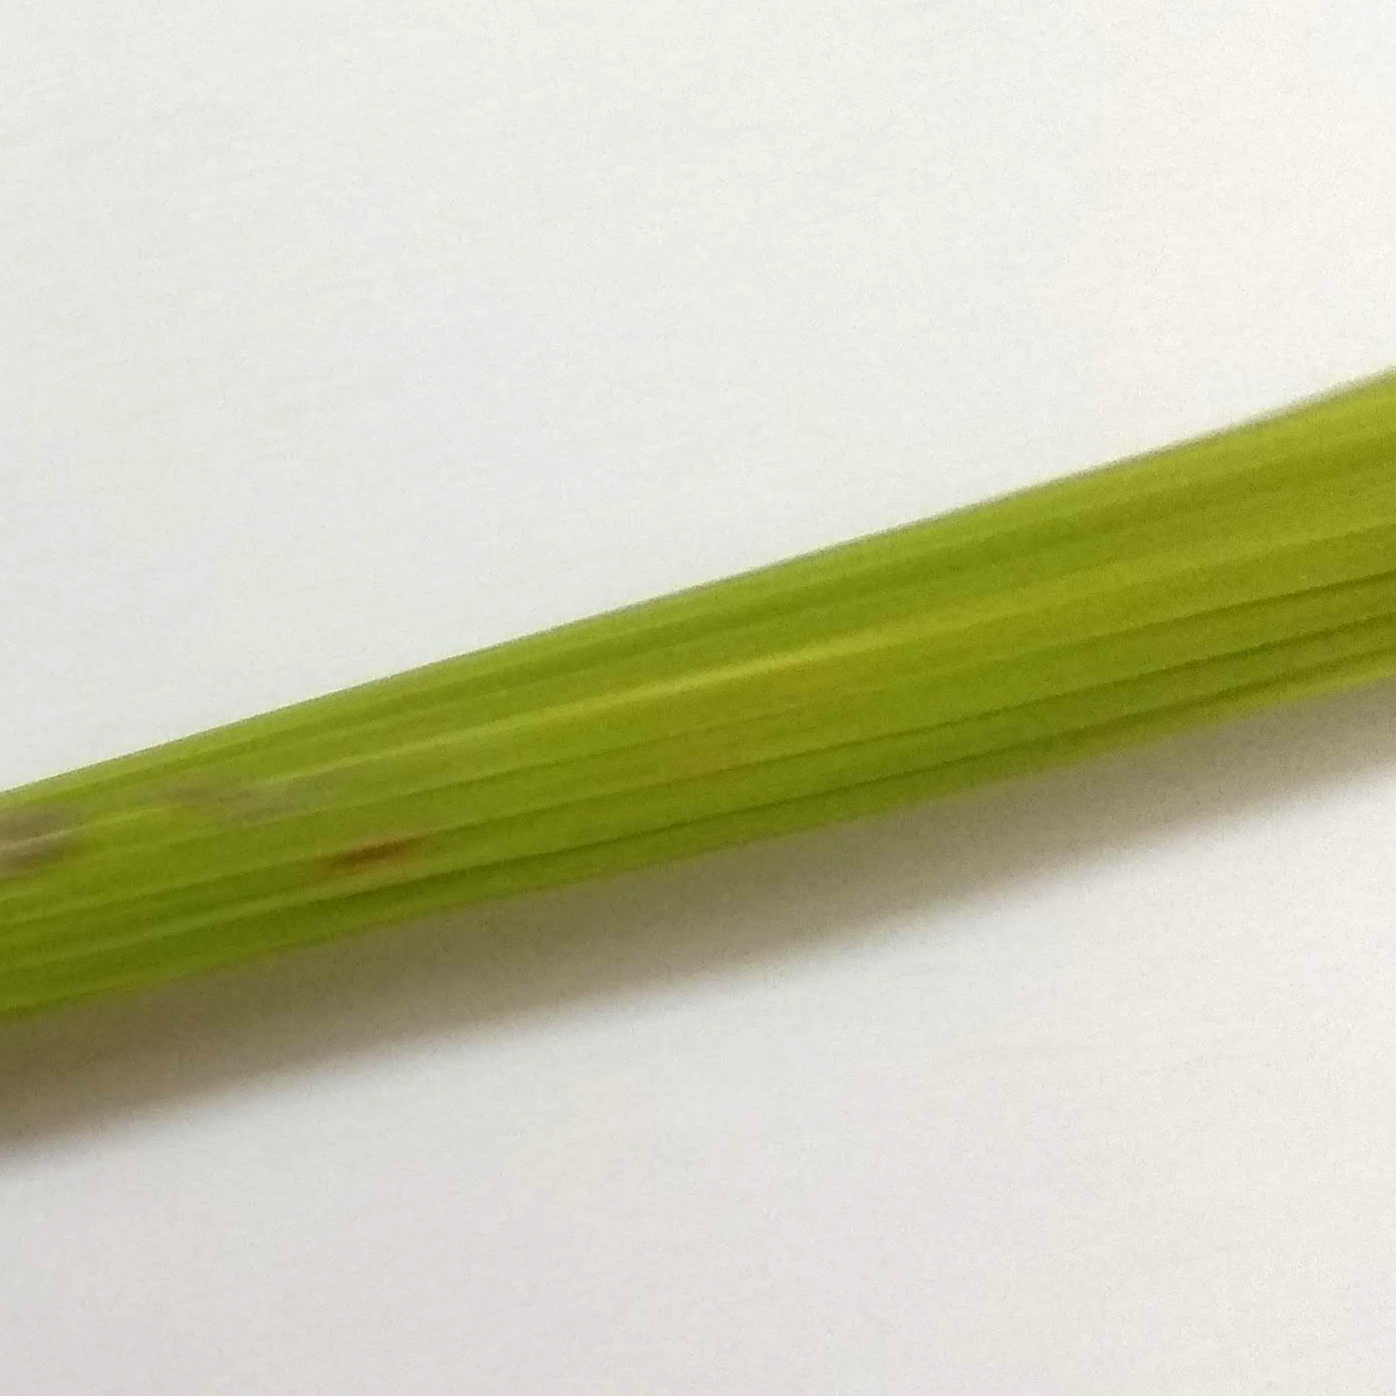brown spot: (1, 796, 87, 887), (314, 831, 419, 877)
